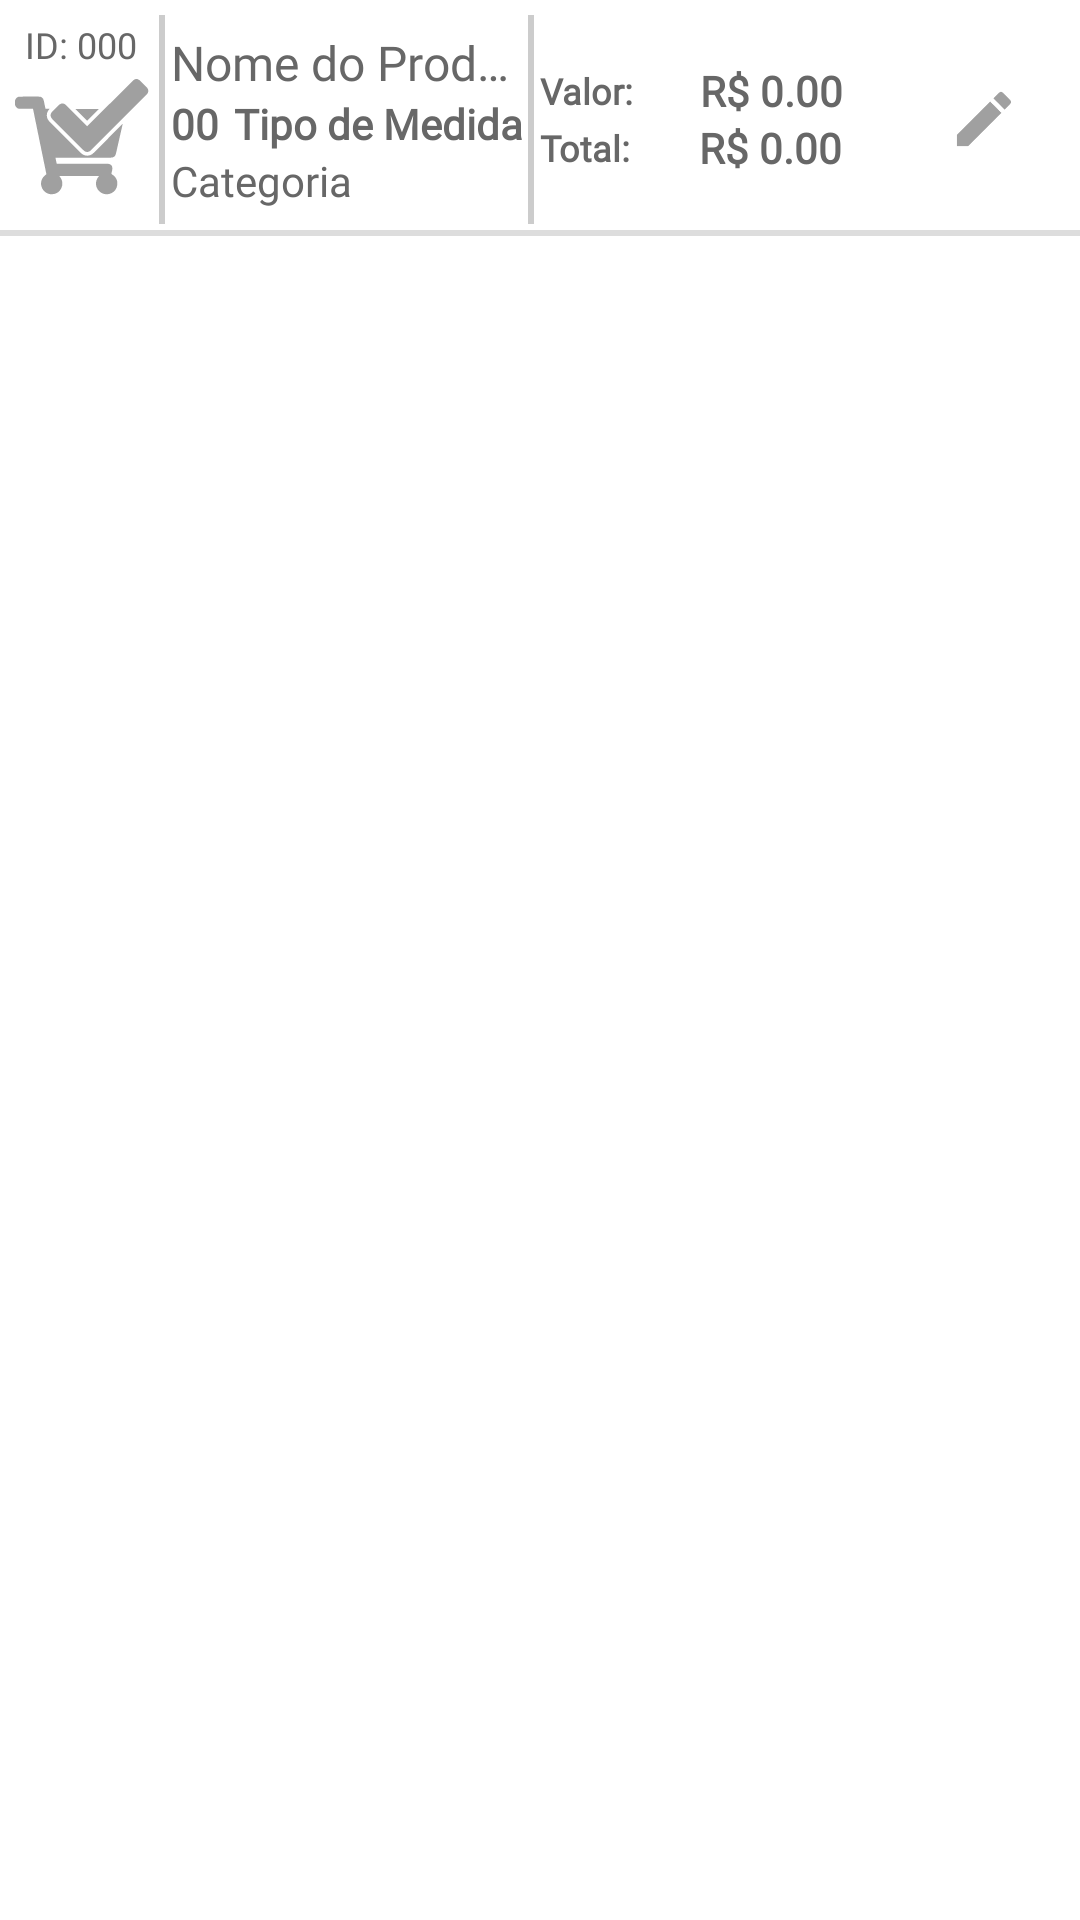

Named icons in this screenshot (1080×1920) and their bounding boxes, (x1, y1, x2, y2):
Checar Produto: (15, 79, 148, 194)
Editar Produto: (957, 92, 1011, 146)
